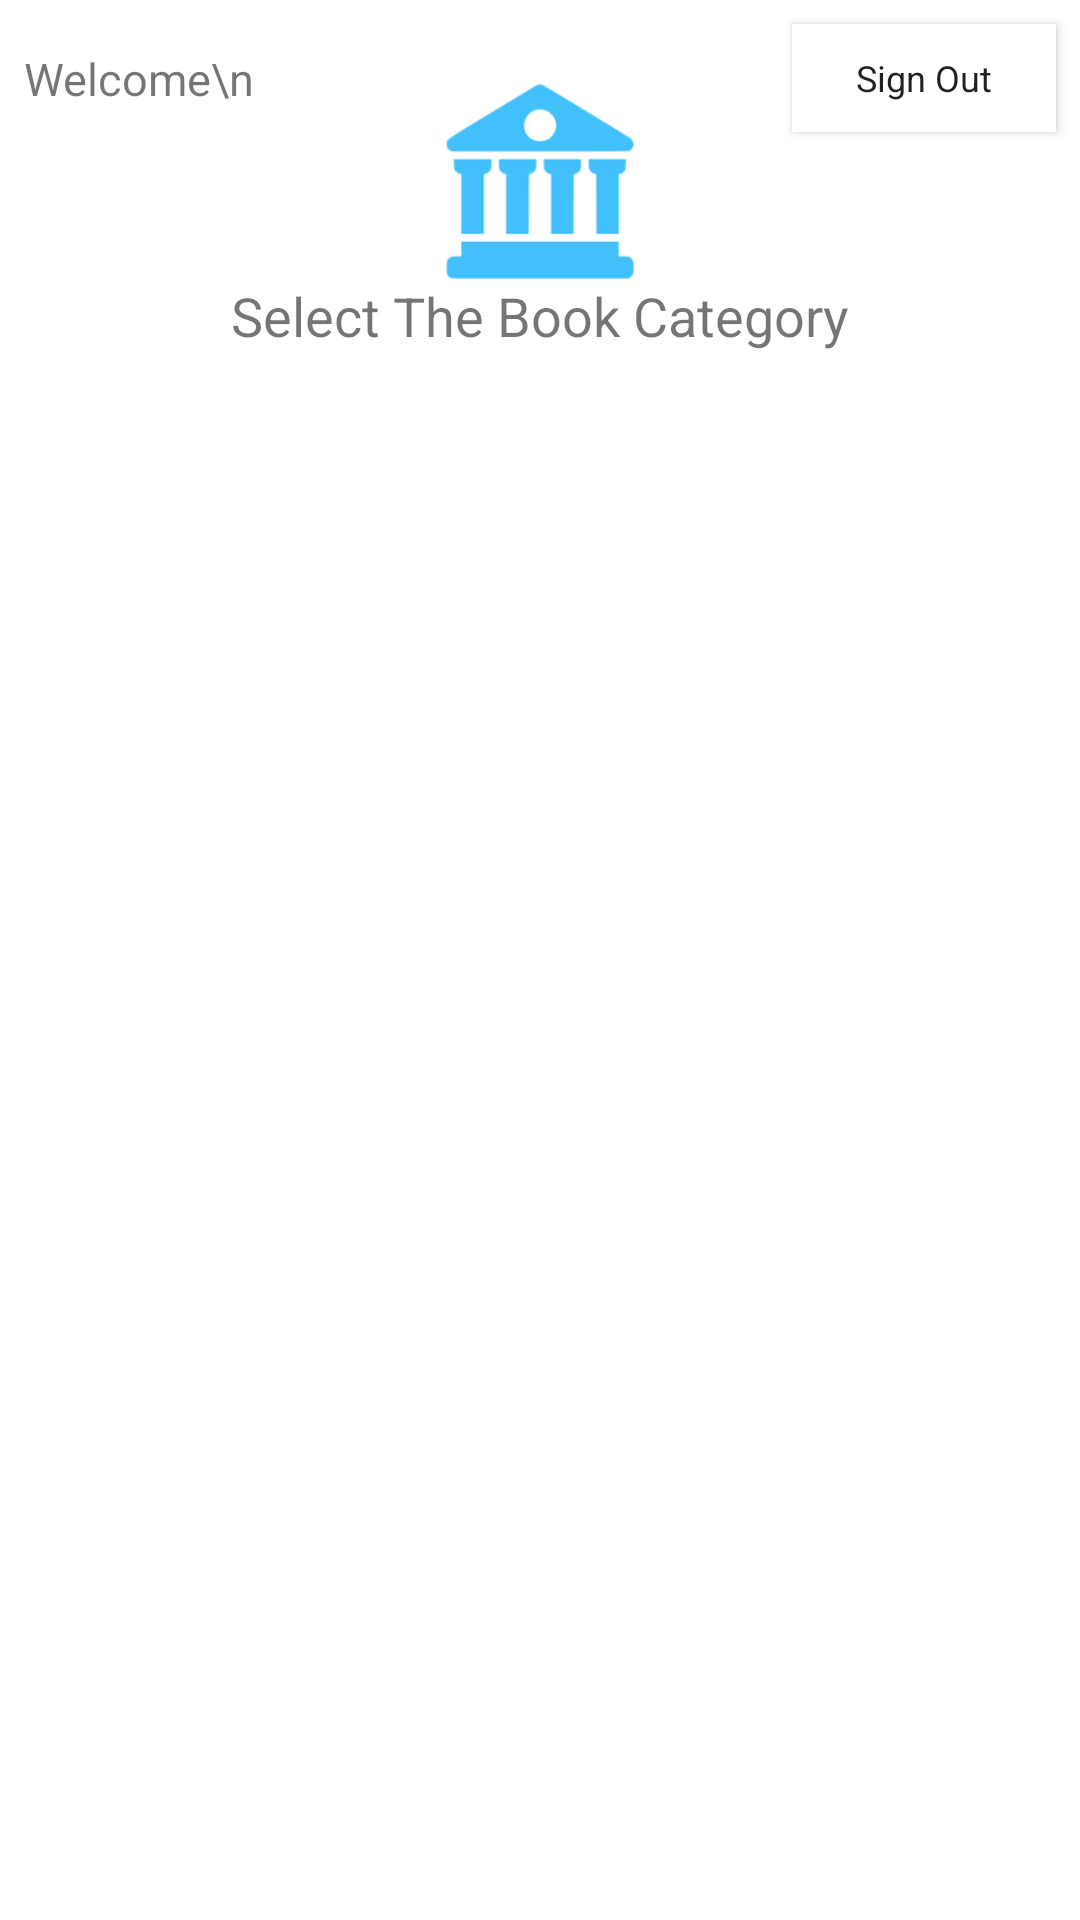

Icons on this 1080x1920 Android screen, each with the point to tap as point (x, y):
appicon: point (540, 181)
